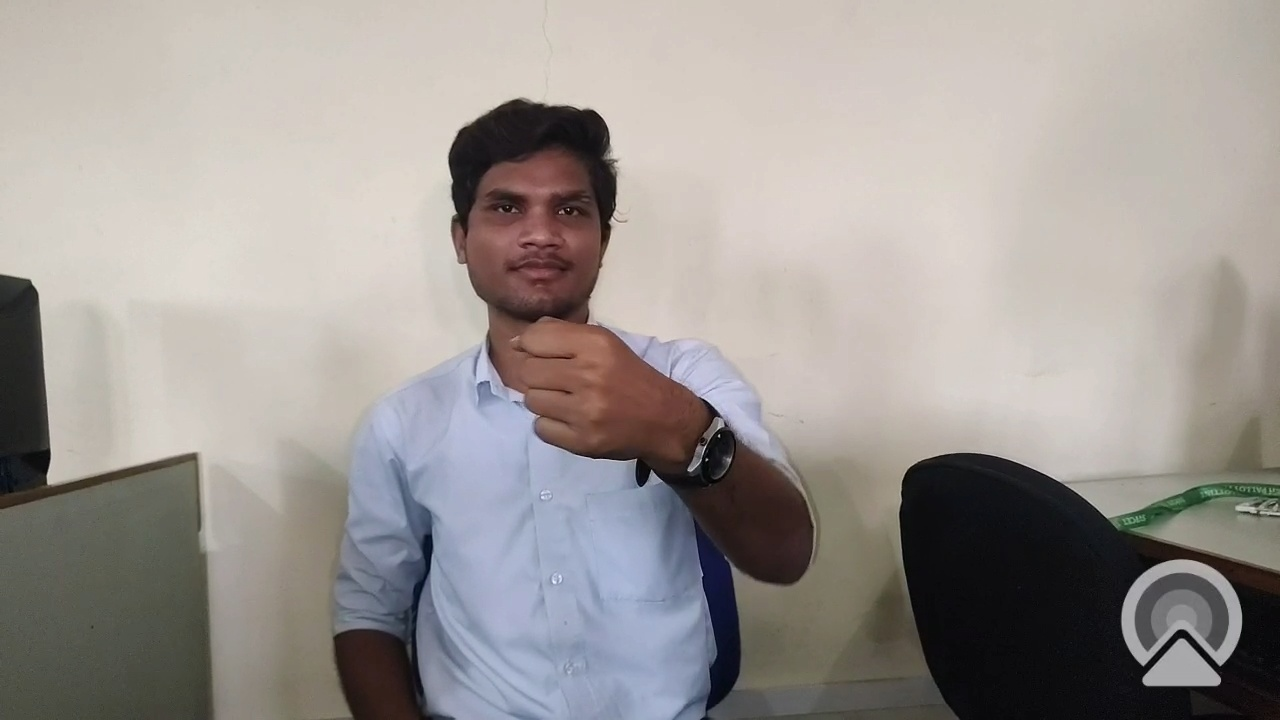Yes: (475, 302, 700, 529)
